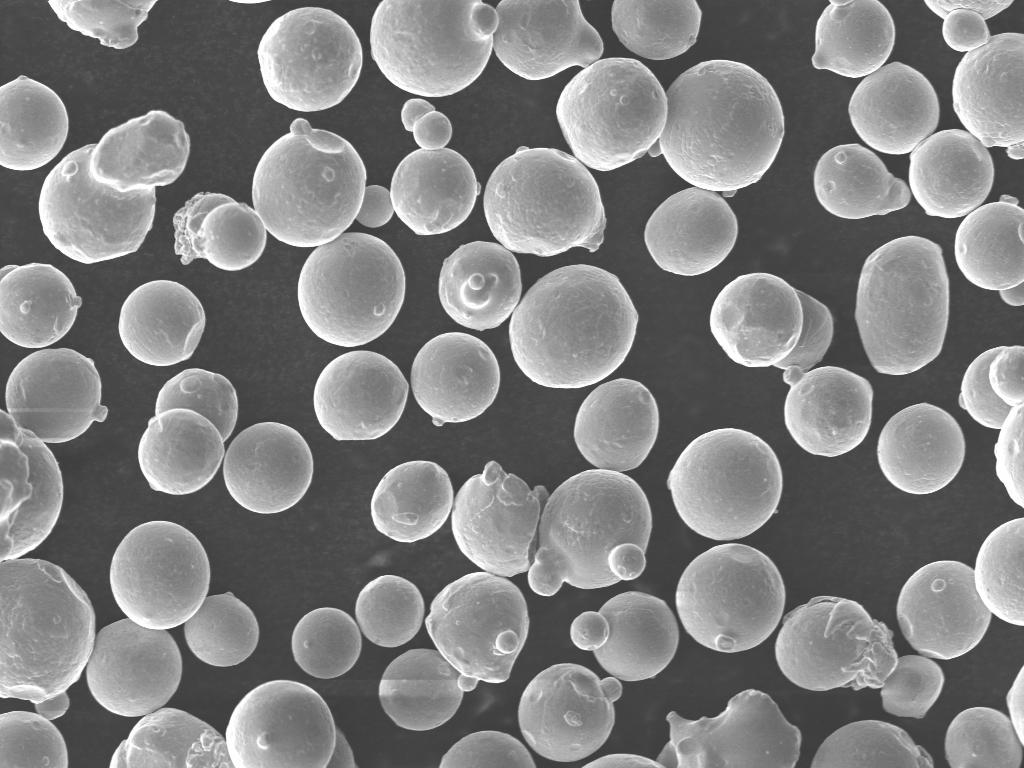Powder: (38, 110, 190, 263), (648, 60, 784, 194), (252, 118, 394, 246), (510, 264, 638, 387), (528, 470, 652, 595), (0, 558, 96, 719), (484, 146, 606, 255), (668, 428, 782, 540), (856, 236, 948, 374), (138, 368, 238, 494), (424, 572, 530, 690), (556, 58, 668, 169), (298, 232, 406, 346), (370, 0, 498, 96), (390, 98, 480, 234), (710, 272, 834, 370), (676, 544, 786, 652), (944, 10, 1024, 157), (776, 596, 898, 690), (226, 680, 354, 768), (452, 462, 548, 577), (258, 8, 362, 112), (110, 522, 210, 629), (666, 690, 802, 767), (518, 664, 622, 762), (86, 618, 182, 716), (6, 350, 108, 442), (0, 410, 62, 561), (572, 592, 678, 680), (896, 562, 992, 659), (494, 0, 604, 80), (848, 62, 940, 154), (314, 350, 408, 440), (224, 422, 314, 514), (644, 188, 738, 275), (878, 404, 966, 494), (412, 332, 498, 424), (784, 366, 872, 455), (574, 378, 658, 471), (954, 196, 1024, 306), (118, 280, 206, 366), (910, 130, 994, 218), (814, 144, 912, 218), (438, 242, 520, 330), (112, 708, 232, 768), (174, 194, 266, 270), (378, 648, 464, 729), (0, 264, 82, 347), (372, 460, 454, 541), (0, 76, 68, 170), (814, 0, 894, 78), (812, 720, 932, 768), (184, 592, 260, 665), (612, 0, 702, 60), (974, 518, 1024, 625), (48, 0, 155, 49), (962, 346, 1024, 429), (356, 574, 424, 647), (292, 608, 362, 678), (944, 708, 1022, 768), (882, 656, 944, 717), (0, 712, 66, 768), (440, 730, 536, 768), (994, 404, 1024, 507), (924, 1, 1014, 19), (1006, 666, 1024, 743), (584, 754, 664, 768)
